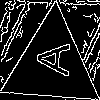A: (27, 39, 71, 77)
